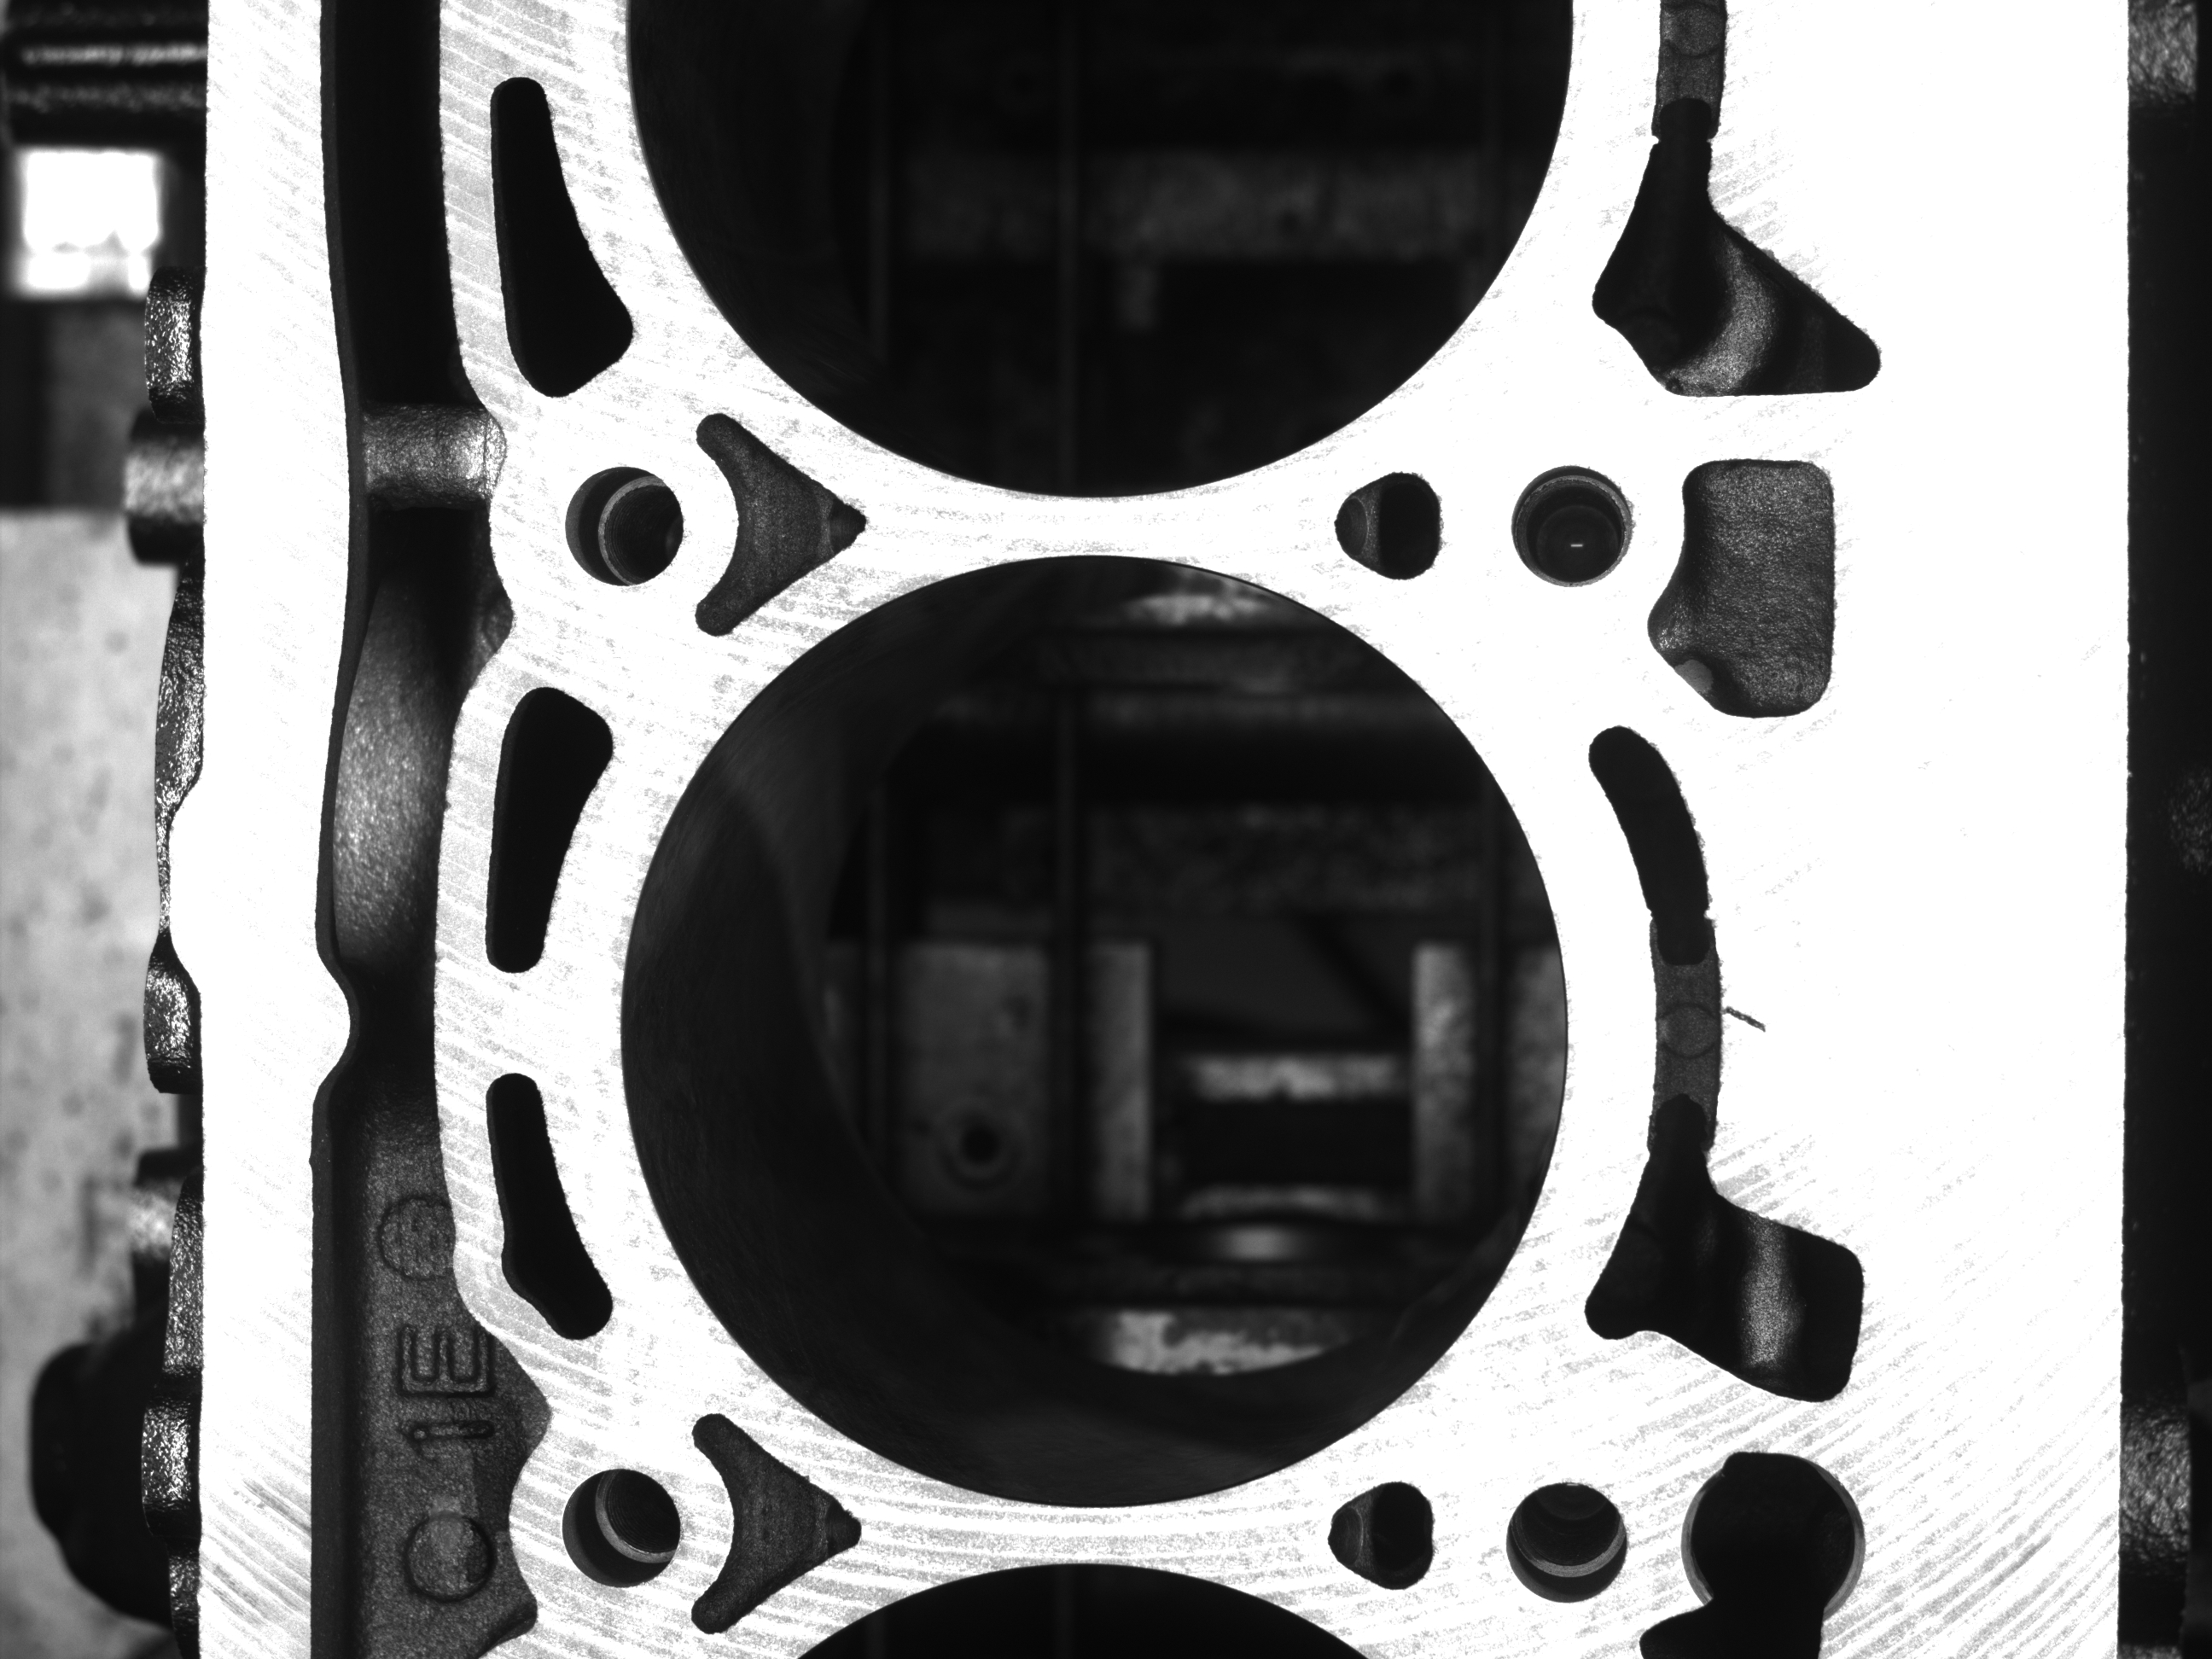crackle: (1714, 990, 1792, 1037)
